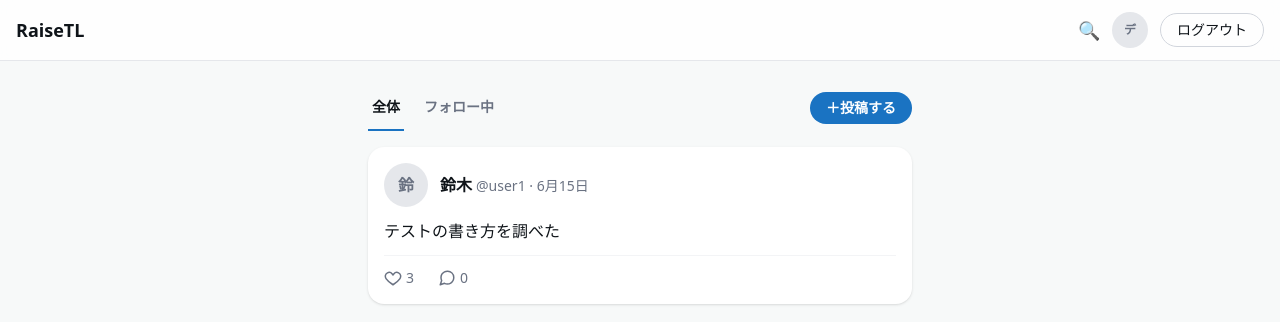
Test: TimelinePage — いいねに成功したとき › いいね数が最新の値に更新される
Click the button "3" at (399,278), box 384,268 -> 414,288
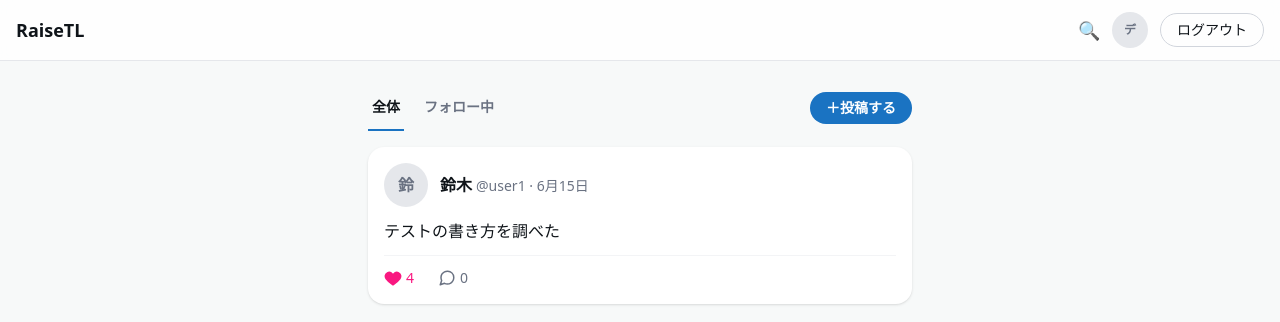
Check: the button "4" is shown, box 384,268 -> 414,288
